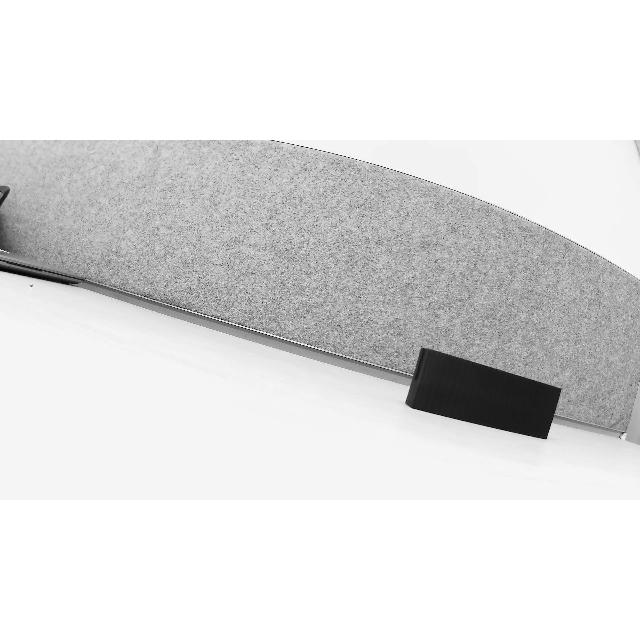targets: (406, 346, 564, 440)
